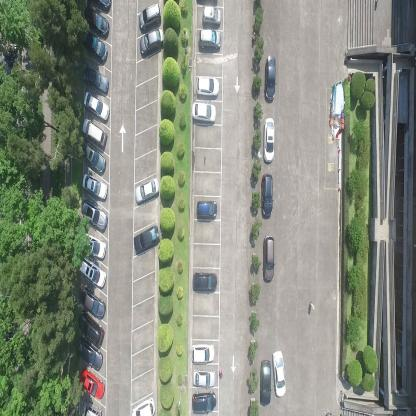car: (76, 311, 105, 348), (133, 222, 161, 256), (79, 284, 106, 319), (82, 90, 110, 123), (79, 257, 107, 290), (75, 337, 103, 370), (80, 140, 107, 174), (80, 115, 107, 148), (82, 29, 108, 63), (78, 366, 104, 400), (133, 175, 161, 206), (80, 200, 108, 231), (84, 5, 110, 38), (83, 64, 109, 95), (82, 172, 108, 202), (81, 231, 107, 260), (138, 28, 164, 56), (272, 347, 286, 397), (138, 3, 162, 32), (260, 172, 274, 219), (192, 390, 218, 414), (192, 270, 218, 294), (262, 232, 274, 283), (264, 54, 276, 102), (259, 359, 271, 407), (196, 74, 220, 98), (191, 101, 217, 123), (132, 394, 157, 416), (191, 342, 216, 363), (196, 199, 218, 220), (264, 116, 274, 162), (201, 5, 222, 26), (193, 368, 216, 387), (198, 30, 221, 49), (89, 0, 113, 15), (80, 400, 102, 416)
